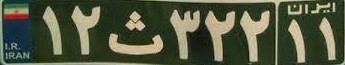character: (105, 8, 164, 60), (67, 2, 105, 61), (167, 4, 202, 65), (203, 4, 237, 65), (238, 6, 273, 65), (38, 2, 68, 60), (284, 17, 308, 65), (315, 16, 335, 64)
